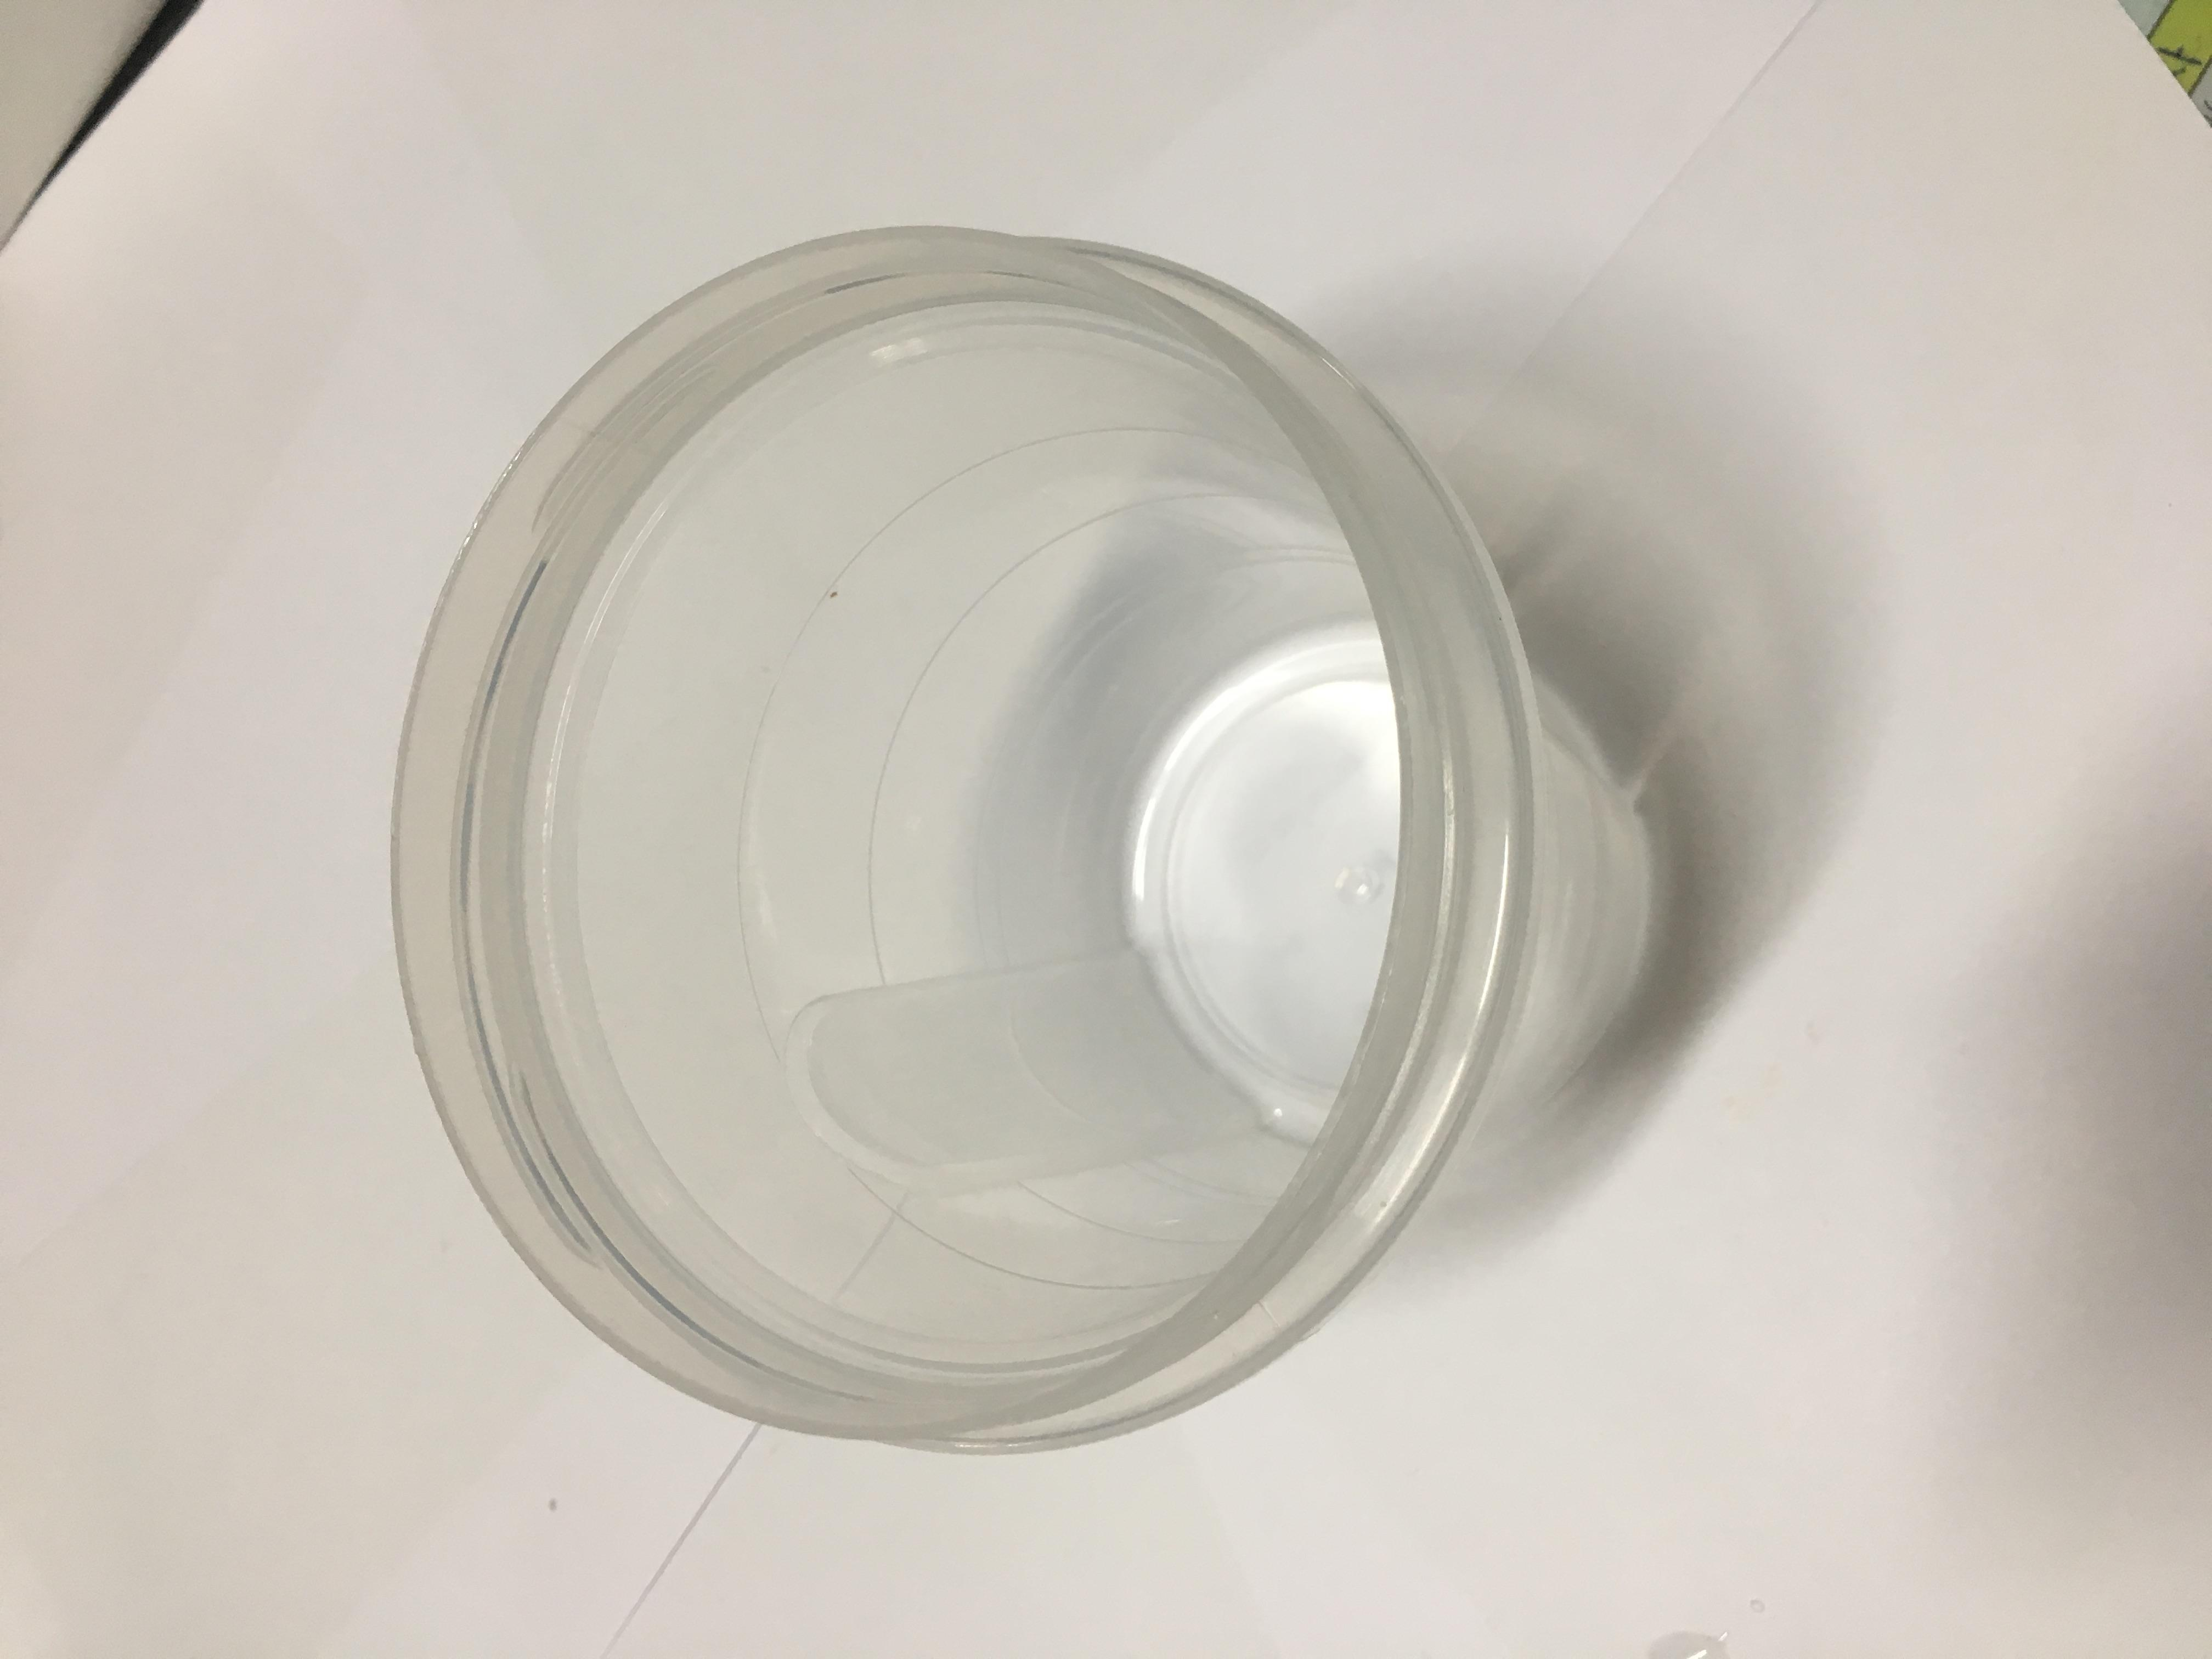bottle: (106, 270, 1665, 1258)
